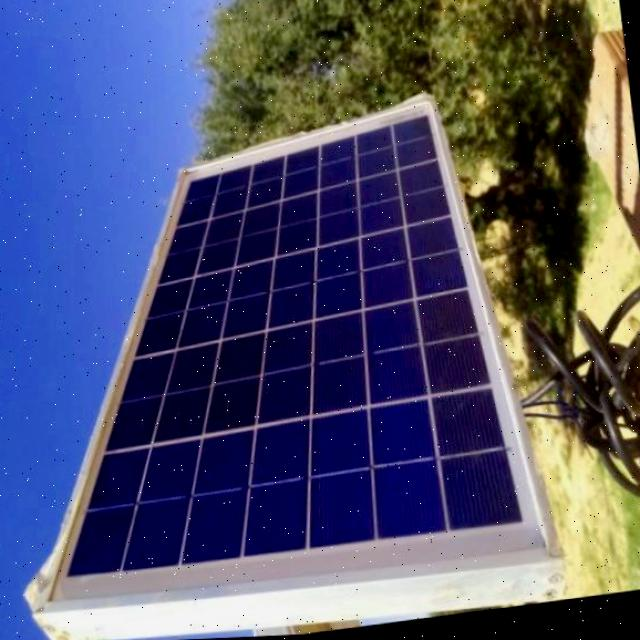Normal Solar Panel: (0, 93, 561, 630)
